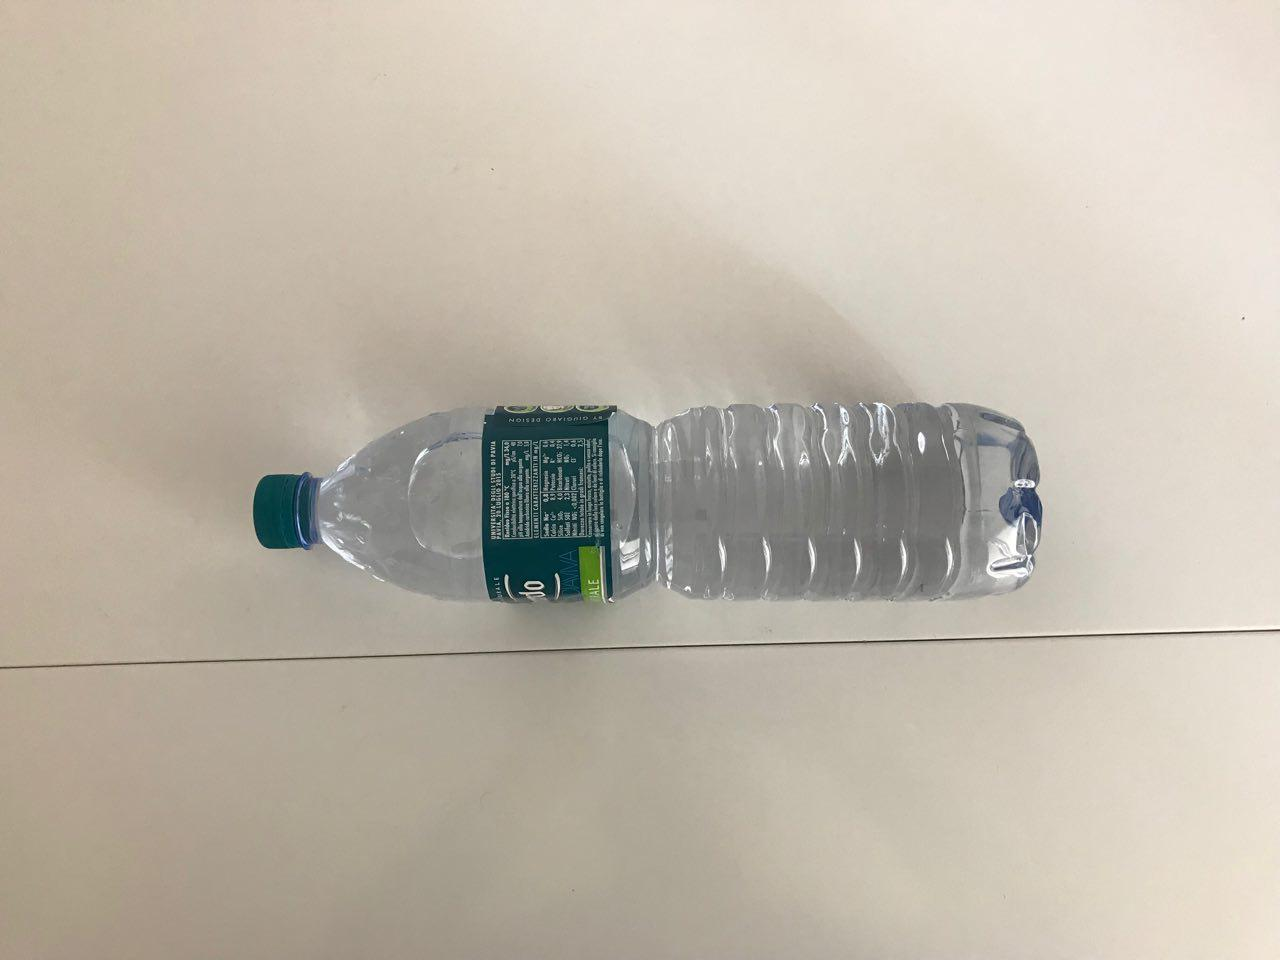san_bernardo: (252, 399, 1044, 607)
